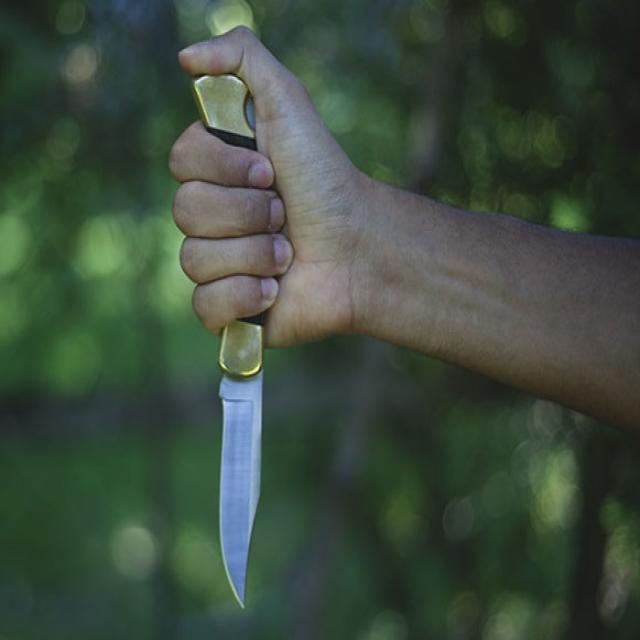knife: (214, 325, 271, 611)
